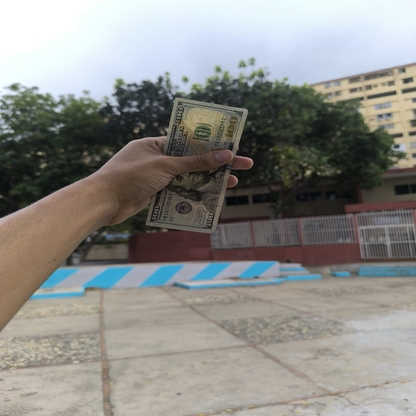one_hundred-front: (145, 93, 249, 239)
